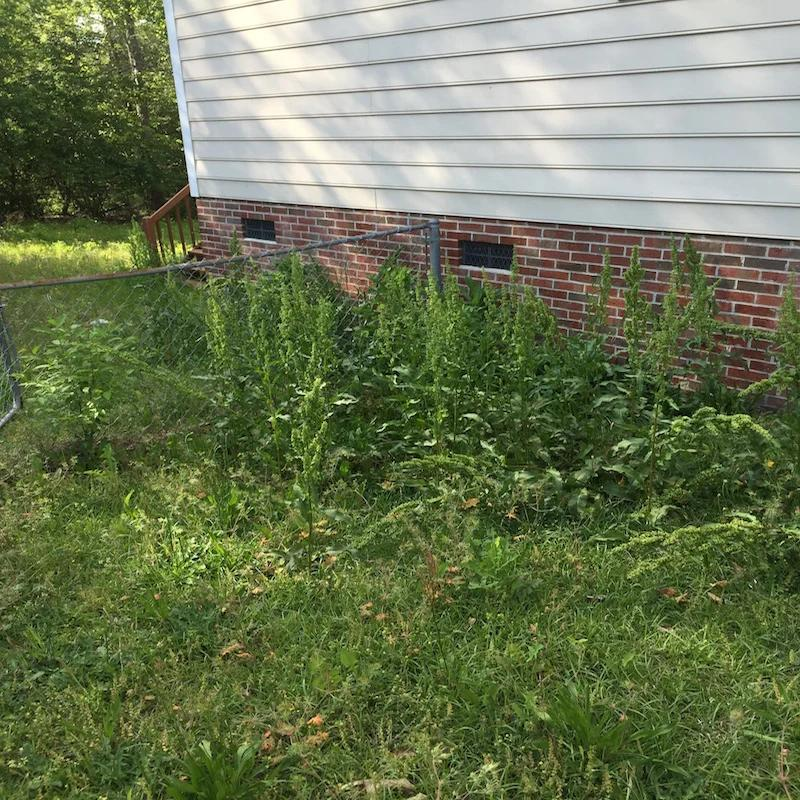overgrown grass: (20, 527, 800, 800), (199, 286, 800, 564), (54, 322, 149, 470)
